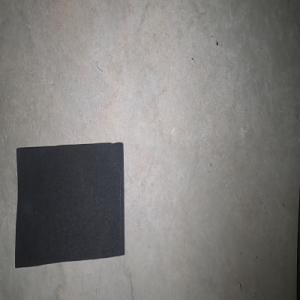PaintChip: (14, 142, 124, 268)
